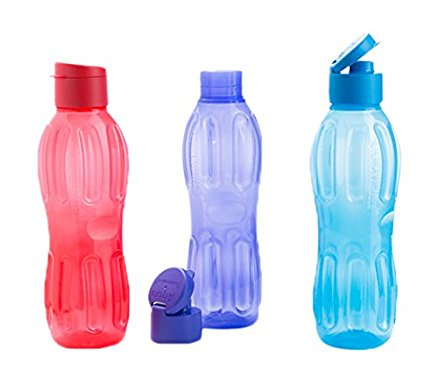emptybottle: (310, 32, 397, 350), (40, 62, 130, 348), (181, 70, 261, 330)
